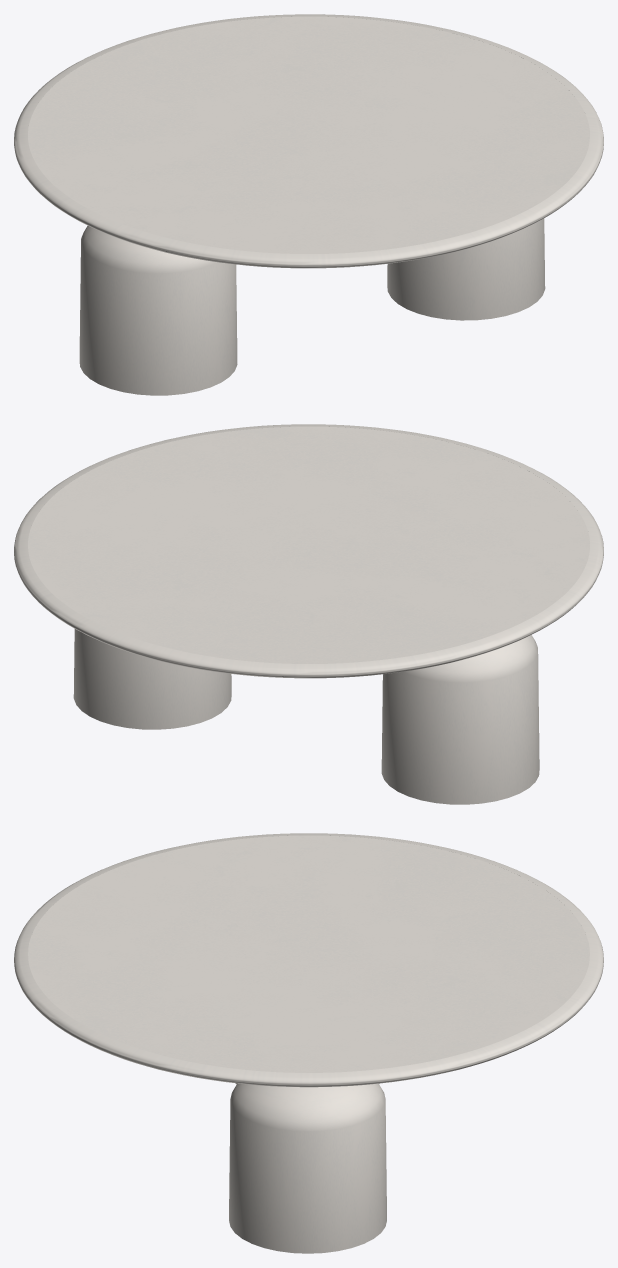
Rendered from pearlwhite_oval_round_tornado.glb.
3 views of the same model, one above another, from view 1: azimuth 30°, elevation 25°; view 2: azimuth 150°, elevation 25°; view 3: azimuth 270°, elevation 25° (orthographic).
Parts seen in each view (by area): view 1: round_round, tornado; view 2: round_round, tornado; view 3: round_round, tornado.
Part boxes in pixels (x1,y1,x2,y2): round_round: (14,14,603,268); tornado: (79,218,545,395); round_round: (14,424,603,678); tornado: (73,629,539,804); round_round: (14,833,603,1087); tornado: (229,1083,386,1253).
Bounding box in the file's own units: 7.09 × 2.51 × 7.09.
Materials: 1 (1 with a texture image).
